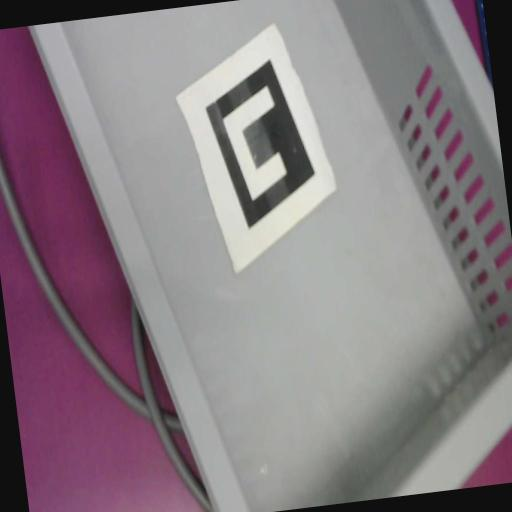QR: (168, 18, 345, 276)
